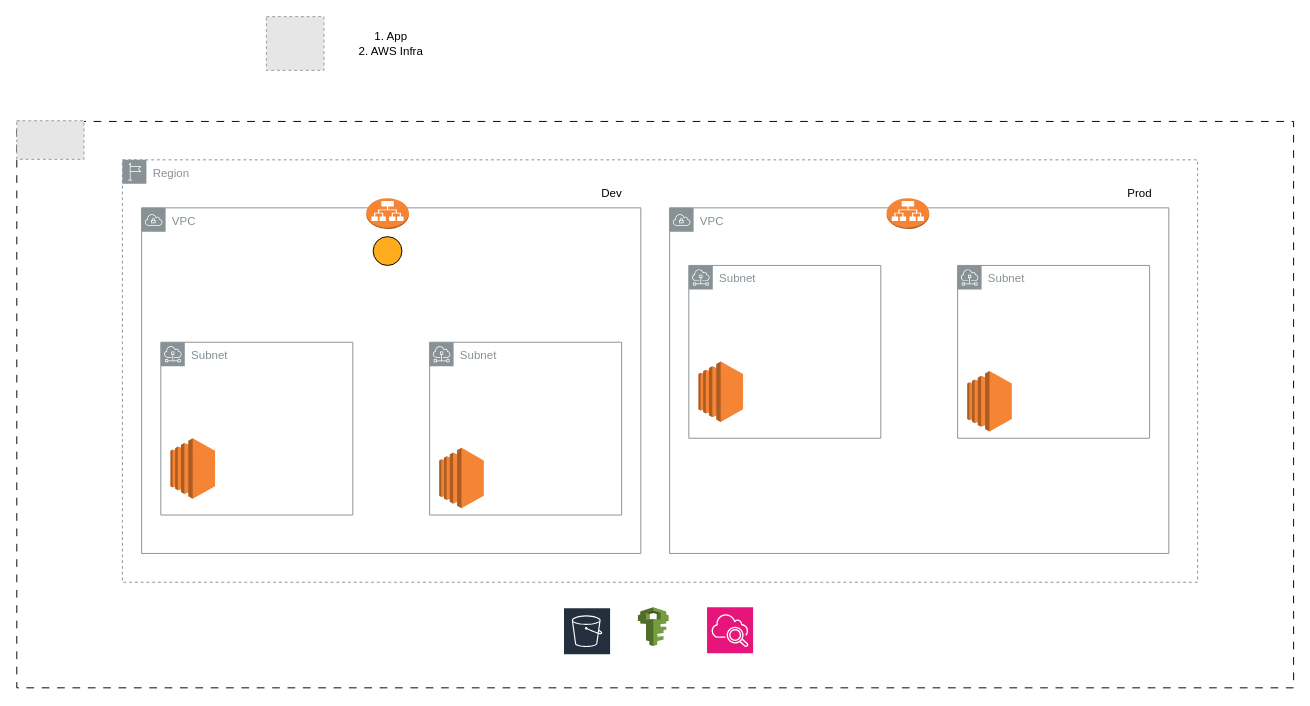
Image size: 1310x706. Some labels were removed from this diagram. Grey dashed boxes stand in for pictures. The shapes that lost their labels are listed below. From the top down, each one's centre as x and y in pixels, then its label:
[387,250]: ASG
[586,645]: Amazon S3
